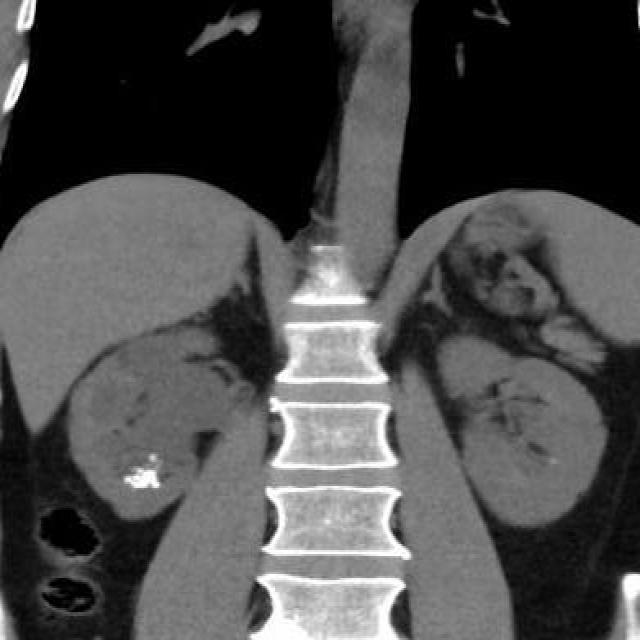Tas_Var: (126, 467, 165, 493), (146, 452, 163, 462), (151, 481, 162, 489), (122, 475, 133, 483), (135, 467, 145, 475), (134, 473, 142, 481)
